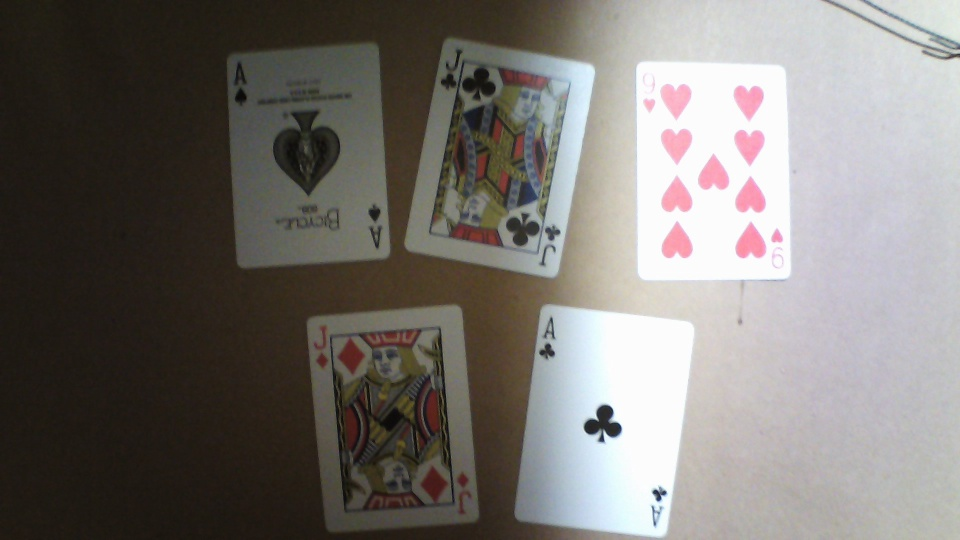ace: (515, 299, 696, 540), (223, 42, 394, 269)
jack: (405, 32, 595, 278), (305, 303, 483, 532)
nine: (634, 57, 794, 280)
